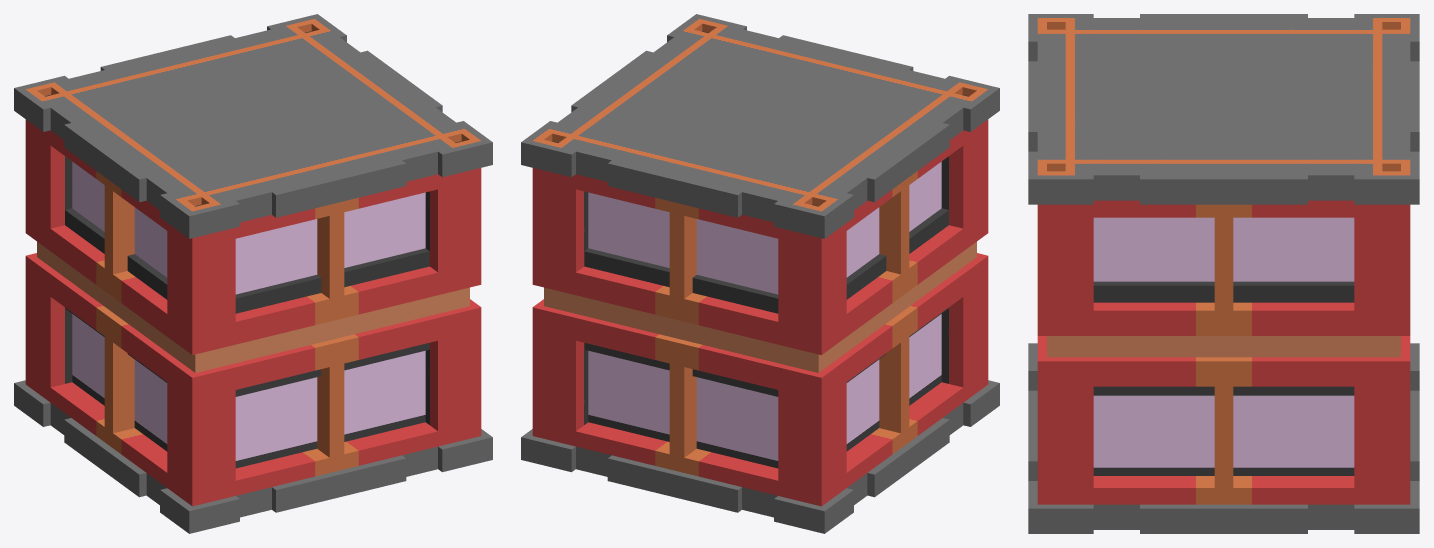
Rendered from Tower_11.fbx.
3 renders of one model, left to right at view 1: azimuth 30°, elevation 25°; view 2: azimuth 150°, elevation 25°; view 3: azimuth 270°, elevation 25°, orthographic. The views are drawn at different scales.
Visible parts, largest first — view 1: Box; view 2: Box; view 3: Box.
Boxes of the visible parts, left/top/right/bottom form: Box: left=14, top=14, right=492, bottom=533; Box: left=521, top=14, right=999, bottom=533; Box: left=1028, top=14, right=1419, bottom=533.
Bounding box in the file's own units: 42 × 42 × 42.
1 material, 1 textured.
